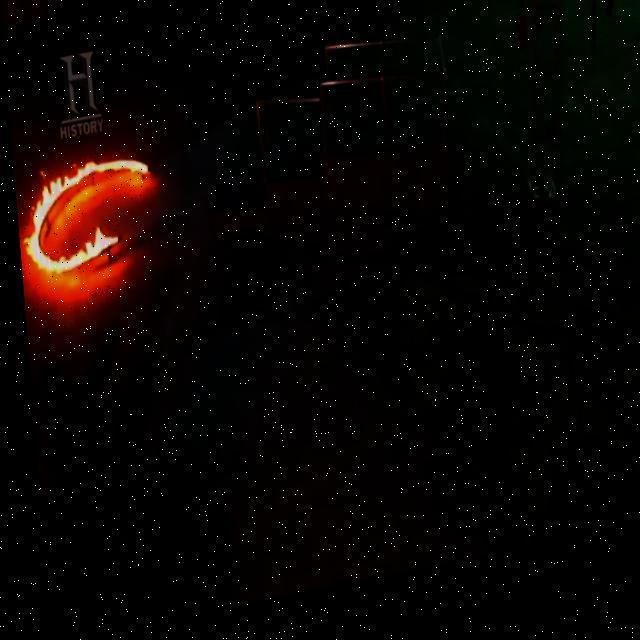Fire: (17, 147, 150, 279)
